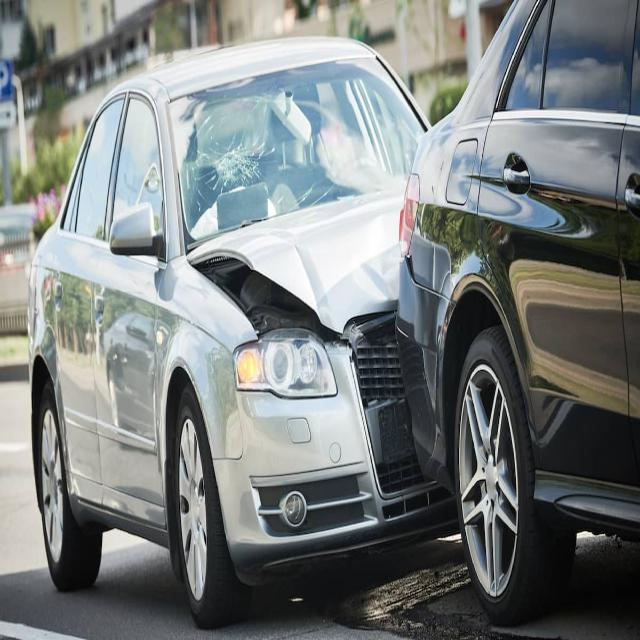crush: (187, 190, 409, 413)
